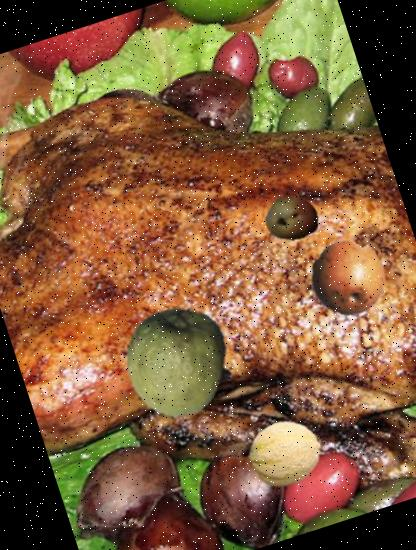Cantaloupe: (238, 406, 332, 500)
Granadilla: (300, 228, 396, 324)
Limes: (109, 292, 250, 432)
Papaya: (258, 184, 326, 252)
